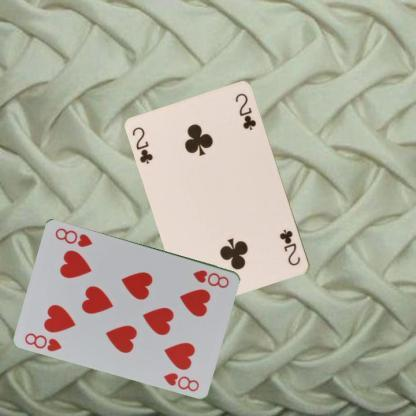2c: (130, 124, 155, 165), (278, 227, 302, 267)
8h: (22, 330, 64, 352), (191, 266, 231, 289)
